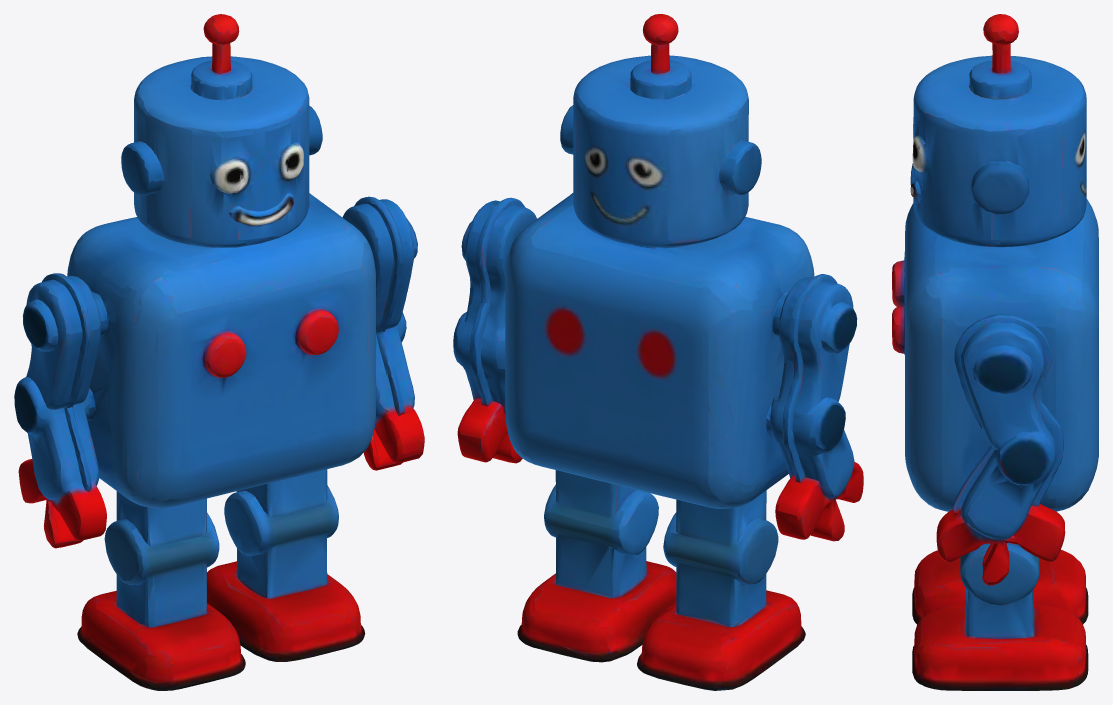
The model's file is x-robot.glb.
The picture shows the model from 3 angles, left to right: view 1: azimuth 30°, elevation 25°; view 2: azimuth 150°, elevation 25°; view 3: azimuth 270°, elevation 25°; orthographic projection.
Visible parts, largest first — view 1: geometry_0; view 2: geometry_0; view 3: geometry_0.
Boxes of the visible parts, left/top/right/bottom form: geometry_0: left=14, top=14, right=424, bottom=690; geometry_0: left=453, top=14, right=863, bottom=690; geometry_0: left=892, top=14, right=1098, bottom=690.
Size of the model in its own units: 0.1754 by 0.28 by 0.0845.
Materials: 1 (1 with a texture image).
